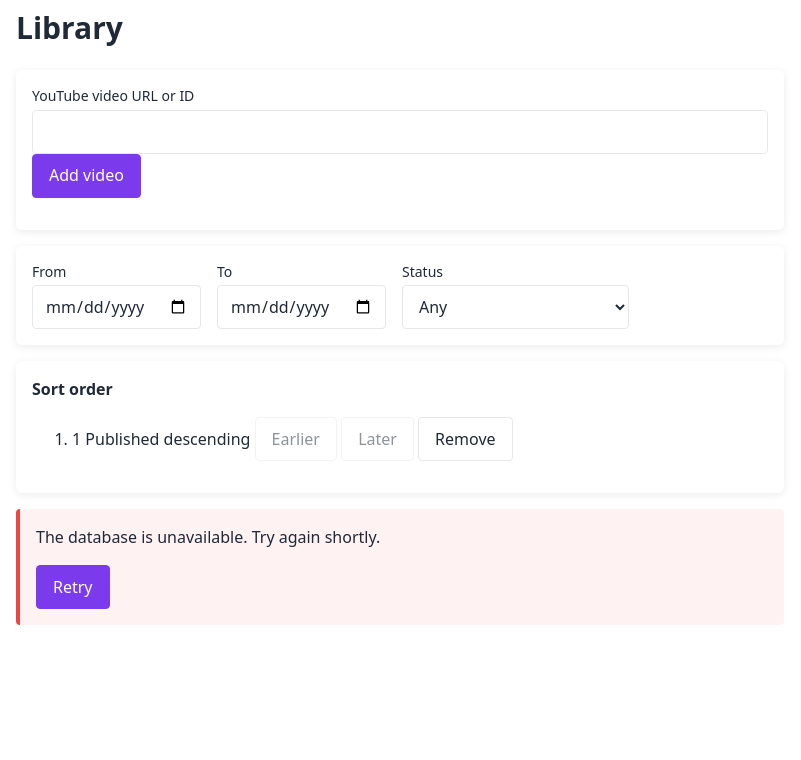
Test case: states › 503 shows the database message and Retry refetches
Expected: the text "The database is unavailable. Try again shortly." is shown, [36,526,380,548]
Click the button "Retry".
click(73, 587)  # box [36,565,110,609]
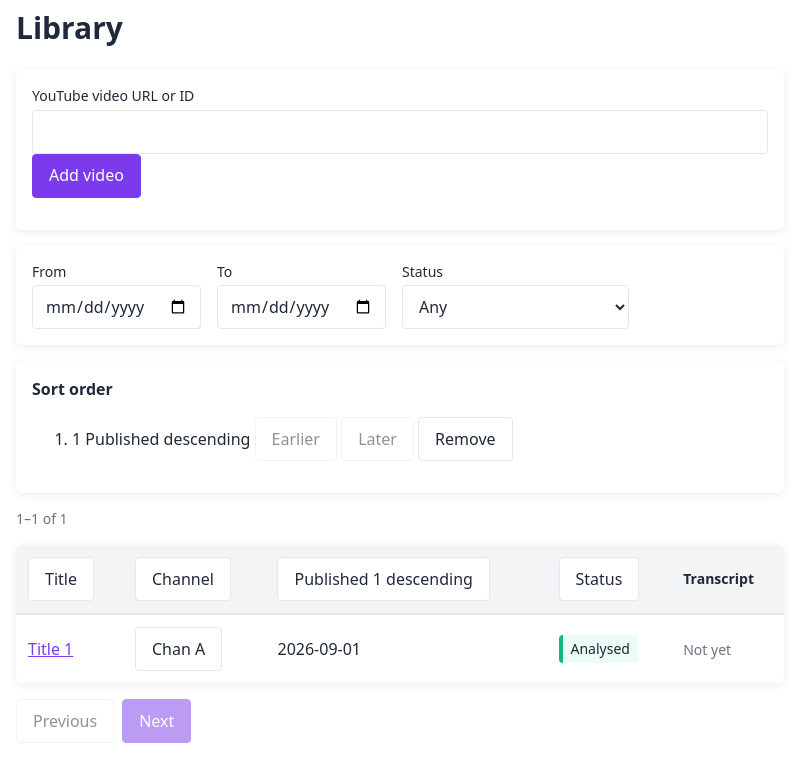
Expected: the link "Title 1" is shown, [28,638,73,660]
Expected: the text "The database is unavailable. Try again shortly." is gone
